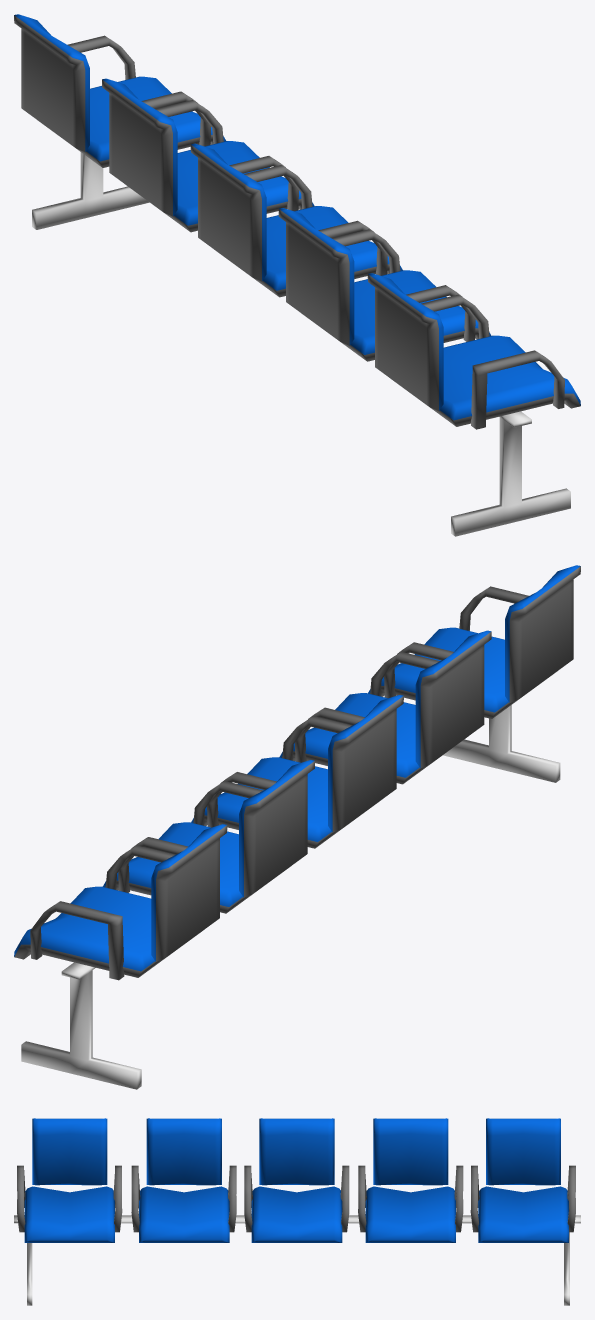
File: Poltronas.fbx
3 views of the same model, one above another, from view 1: azimuth 30°, elevation 25°; view 2: azimuth 150°, elevation 25°; view 3: azimuth 270°, elevation 25° (orthographic). The views are drawn at different scales.
Parts seen in each view (by area): view 1: Poltronas; view 2: Poltronas; view 3: Poltronas.
Boxes of the visible parts, left/top/right/bottom form: Poltronas: left=14, top=14, right=580, bottom=536; Poltronas: left=14, top=565, right=580, bottom=1089; Poltronas: left=14, top=1118, right=580, bottom=1305.
Bounding box in the file's own units: 76.74 × 108 × 386.
